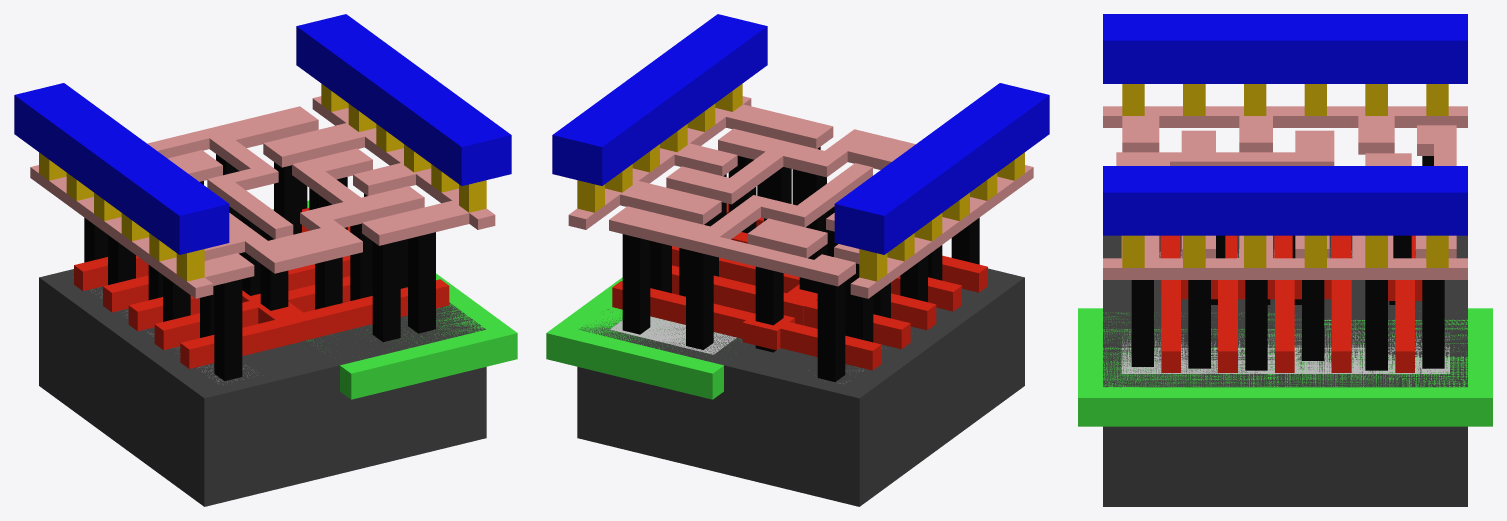
File: sky130_fd_sc_hd__clkbuf_4.obj
3 views of the same model, side by side, from view 1: azimuth 30°, elevation 25°; view 2: azimuth 150°, elevation 25°; view 3: azimuth 270°, elevation 25° (orthographic). The views are drawn at different scales.
Parts seen in each view (by area): view 1: subs, metal1, li, licon, poly, nwell, mcon; view 2: subs, metal1, li, licon, poly, nwell, mcon, tap; view 3: metal1, subs, nwell, li, licon, poly, mcon, tap.
Part boxes in pixels (bbox=[...]): subs: bbox=[39, 269, 486, 506]; metal1: bbox=[14, 14, 511, 254]; li: bbox=[30, 96, 495, 298]; licon: bbox=[84, 154, 435, 381]; poly: bbox=[74, 208, 449, 368]; nwell: bbox=[272, 200, 517, 399]; mcon: bbox=[39, 83, 486, 281]; subs: bbox=[577, 268, 1024, 506]; metal1: bbox=[552, 14, 1049, 254]; li: bbox=[568, 96, 1033, 298]; licon: bbox=[622, 147, 979, 381]; poly: bbox=[612, 203, 987, 370]; nwell: bbox=[546, 277, 741, 399]; mcon: bbox=[577, 83, 1024, 281]; tap: bbox=[610, 316, 736, 354]; metal1: bbox=[1103, 14, 1467, 235]; subs: bbox=[1103, 235, 1467, 506]; nwell: bbox=[1078, 308, 1492, 426]; li: bbox=[1103, 106, 1467, 279]; licon: bbox=[1131, 156, 1444, 370]; poly: bbox=[1160, 235, 1422, 372]; mcon: bbox=[1122, 84, 1448, 267]; tap: bbox=[1121, 329, 1449, 373].
Size of the model in its own units: 3.2 by 2.74 by 3.14.
